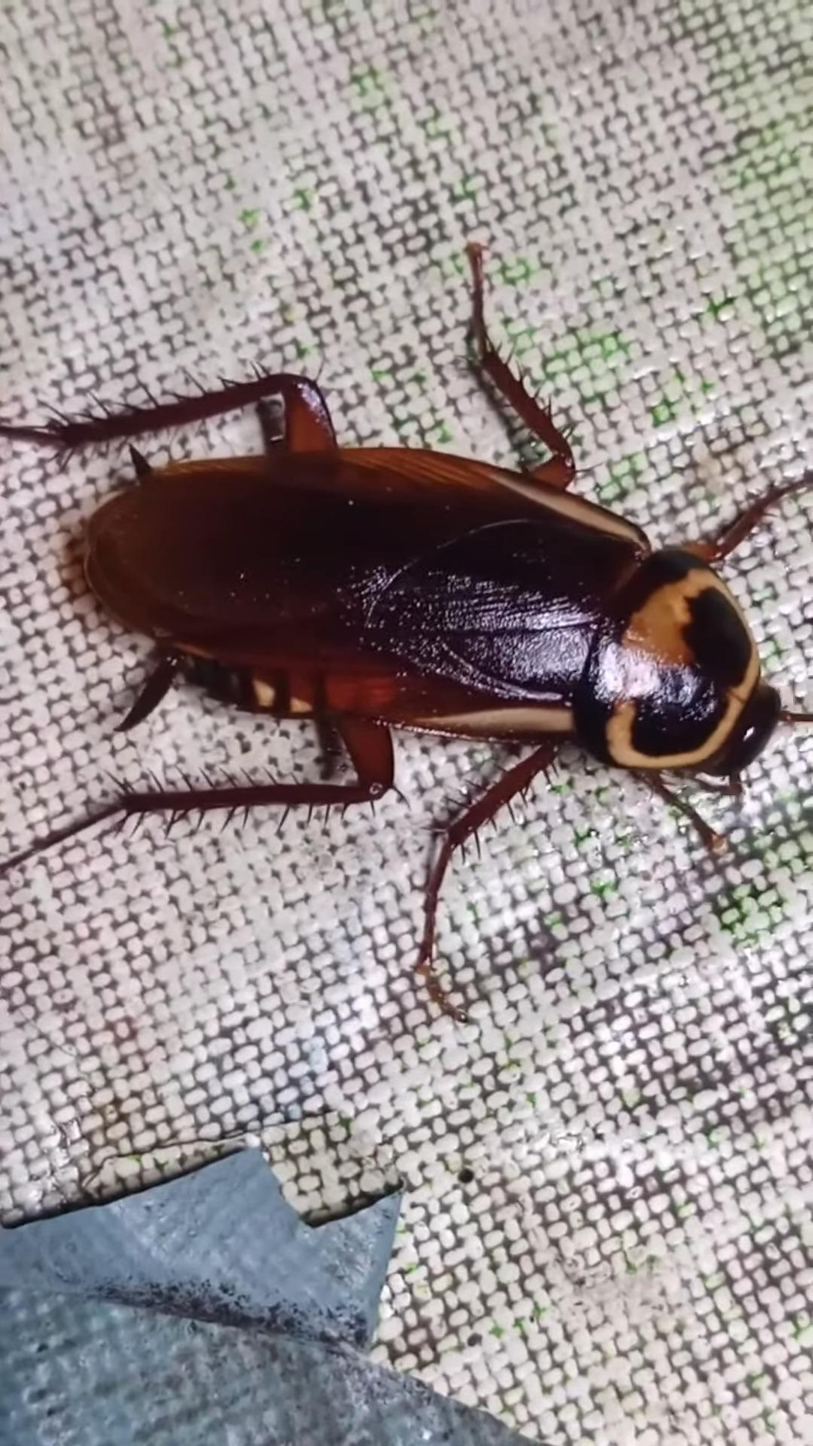cockroach: (0, 178, 813, 1040)
